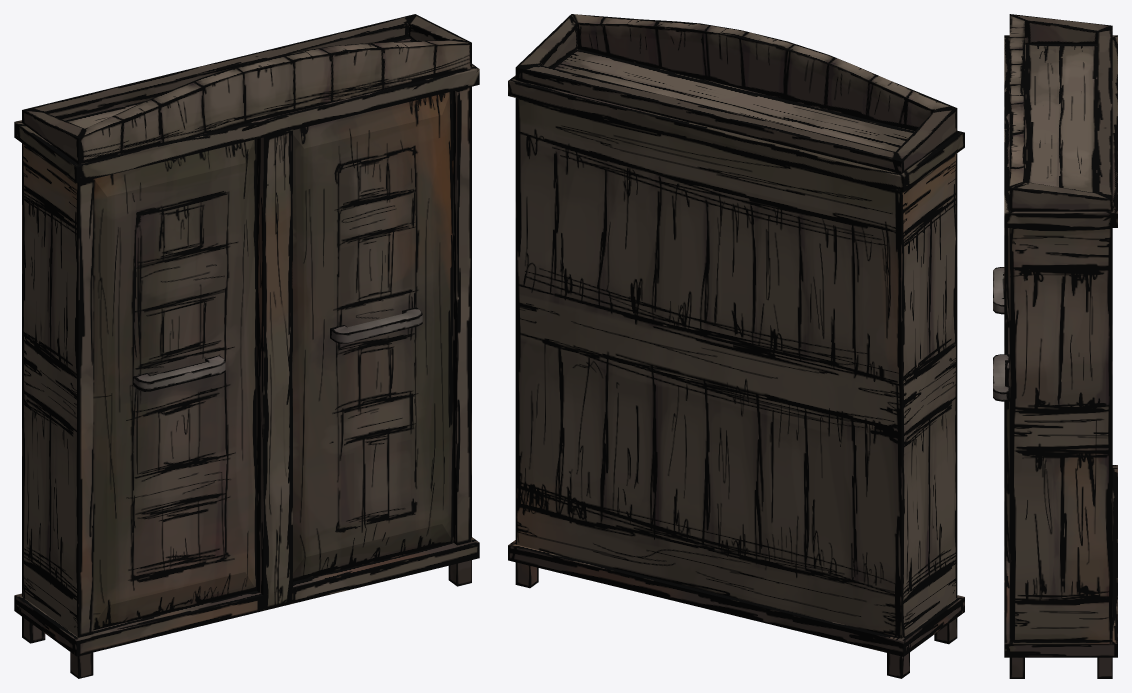
File: wardrobe.fbx
3 renders of one model, left to right at view 1: azimuth 30°, elevation 25°; view 2: azimuth 150°, elevation 25°; view 3: azimuth 270°, elevation 25°, orthographic. The views are drawn at different scales.
Visible parts, largest first — view 1: wardrobe; view 2: wardrobe; view 3: wardrobe.
Boxes of the visible parts, bbox=[...] form: wardrobe: bbox=[14, 14, 479, 678]; wardrobe: bbox=[508, 14, 964, 678]; wardrobe: bbox=[993, 14, 1117, 678].
Bounding box in the file's own units: 820 × 1100 × 242.
